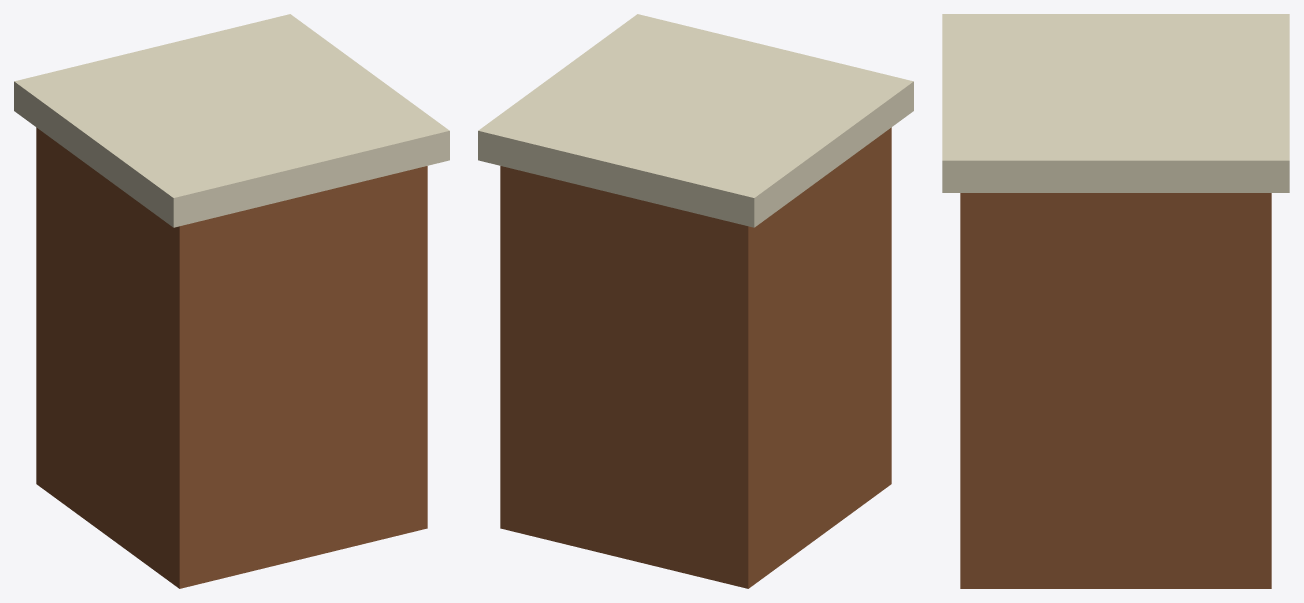
Rendered from display_plinth.fbx.
The picture shows the model from 3 angles, left to right: view 1: azimuth 30°, elevation 25°; view 2: azimuth 150°, elevation 25°; view 3: azimuth 270°, elevation 25°; orthographic projection. The views are drawn at different scales.
Parts seen in each view (by area): view 1: display_plinth.004; view 2: display_plinth.004; view 3: display_plinth.004.
Part boxes in pixels (x1=…): display_plinth.004: x1=14, y1=14, x2=449, y2=588; display_plinth.004: x1=478, y1=14, x2=913, y2=588; display_plinth.004: x1=942, y1=14, x2=1289, y2=588.
Size of the model in its own units: 78 by 108 by 78.
